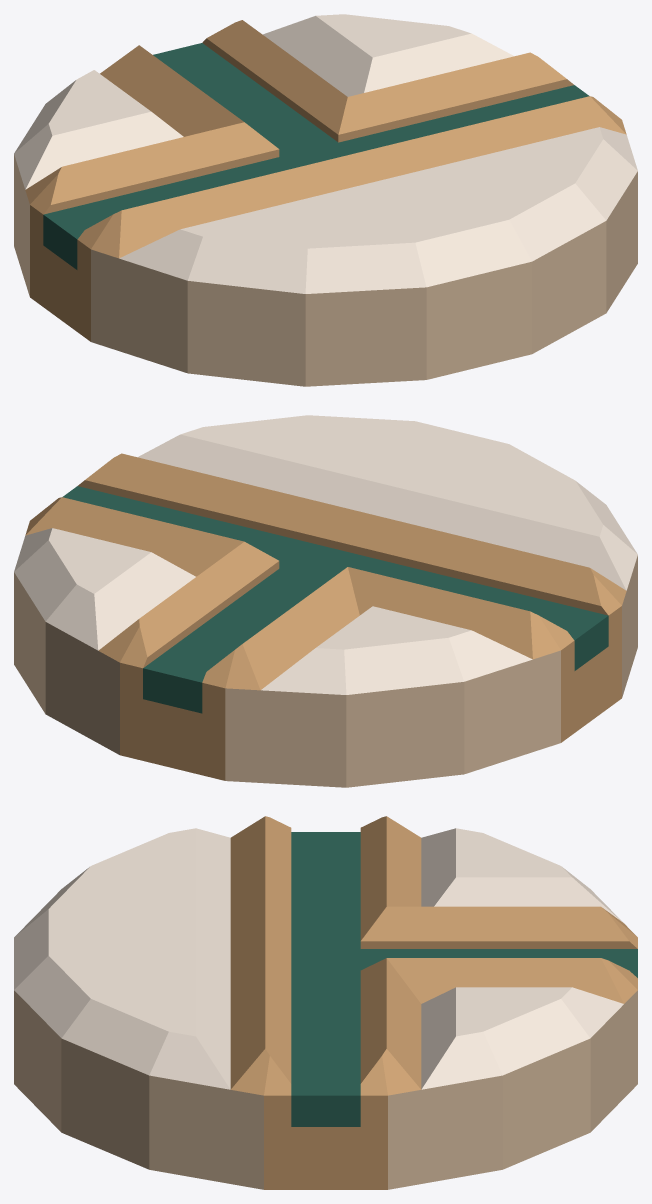
The model's file is Puzzle_Floor_Conduit_Rotating_Platform_TJoint.fbx.
The picture shows the model from 3 angles, top to bottom: view 1: azimuth 30°, elevation 25°; view 2: azimuth 150°, elevation 25°; view 3: azimuth 270°, elevation 25°; orthographic projection.
Visible parts, largest first — view 1: Sandstone_Floor.Sandstone_Floor.Sandstone_Floor.Sandstone_Fl, Sandstone_5.Sandstone_5.Sandstone_5.Sandstone_5.Sandstone_5., Sandstone_Trim.Sandstone_Trim.Sandstone_Trim.Sandstone_Trim, object1; view 2: Sandstone_5.Sandstone_5.Sandstone_5.Sandstone_5.Sandstone_5., Sandstone_Floor.Sandstone_Floor.Sandstone_Floor.Sandstone_Fl, Sandstone_Trim.Sandstone_Trim.Sandstone_Trim.Sandstone_Trim, object1; view 3: Sandstone_Floor.Sandstone_Floor.Sandstone_Floor.Sandstone_Fl, Sandstone_5.Sandstone_5.Sandstone_5.Sandstone_5.Sandstone_5., Sandstone_Trim.Sandstone_Trim.Sandstone_Trim.Sandstone_Trim, object1.
Part boxes in pixels (<box>): Sandstone_Floor.Sandstone_Floor.Sandstone_Floor.Sandstone_Fl: <box>14,14,637,293</box>; Sandstone_5.Sandstone_5.Sandstone_5.Sandstone_5.Sandstone_5.: <box>25,20,626,341</box>; Sandstone_Trim.Sandstone_Trim.Sandstone_Trim.Sandstone_Trim: <box>14,154,637,386</box>; object1: <box>43,43,589,269</box>; Sandstone_5.Sandstone_5.Sandstone_5.Sandstone_5.Sandstone_5.: <box>25,453,626,780</box>; Sandstone_Floor.Sandstone_Floor.Sandstone_Floor.Sandstone_Fl: <box>14,415,637,694</box>; Sandstone_Trim.Sandstone_Trim.Sandstone_Trim.Sandstone_Trim: <box>14,555,637,787</box>; object1: <box>62,486,608,713</box>; Sandstone_Floor.Sandstone_Floor.Sandstone_Floor.Sandstone_Fl: <box>14,828,623,1089</box>; Sandstone_5.Sandstone_5.Sandstone_5.Sandstone_5.Sandstone_5.: <box>230,816,637,1189</box>; Sandstone_Trim.Sandstone_Trim.Sandstone_Trim.Sandstone_Trim: <box>14,990,637,1189</box>; object1: <box>291,832,637,1126</box>.
Bounding box in the file's own units: 0.9 × 0.2 × 0.9.
